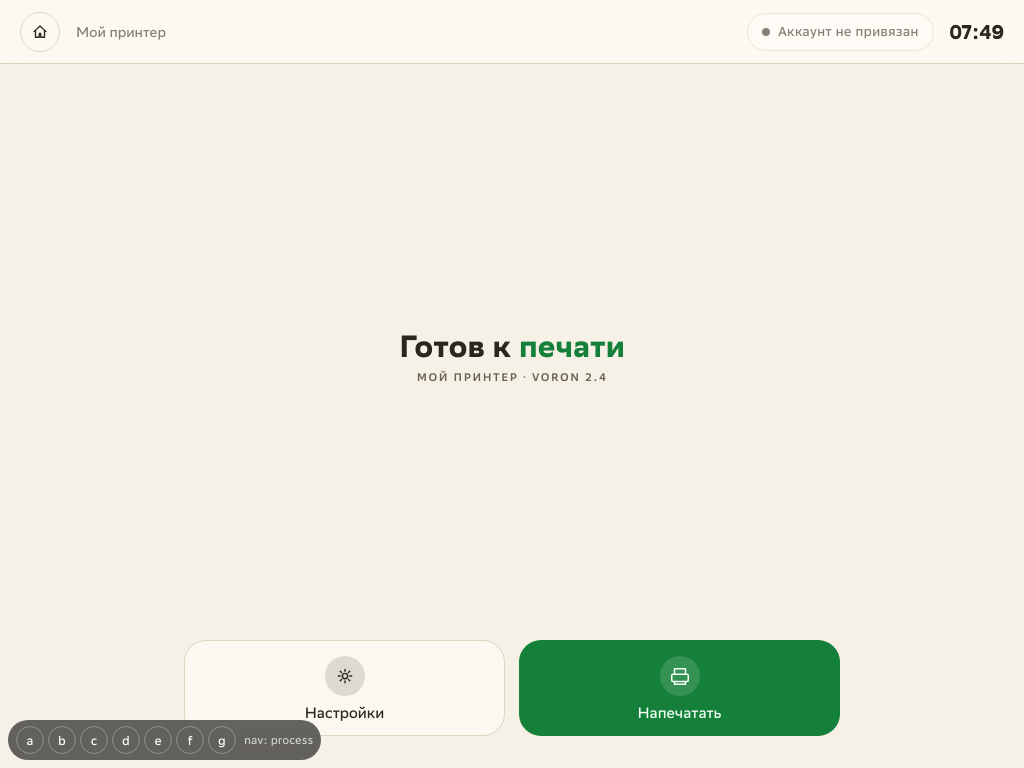
PrinterFaceScreen › ?dev=1 — dev-панель прыгает по сценам b/c/e/f/g напрямую
Step 1. Click the button "c" → (94, 740), box [80,726,108,754]
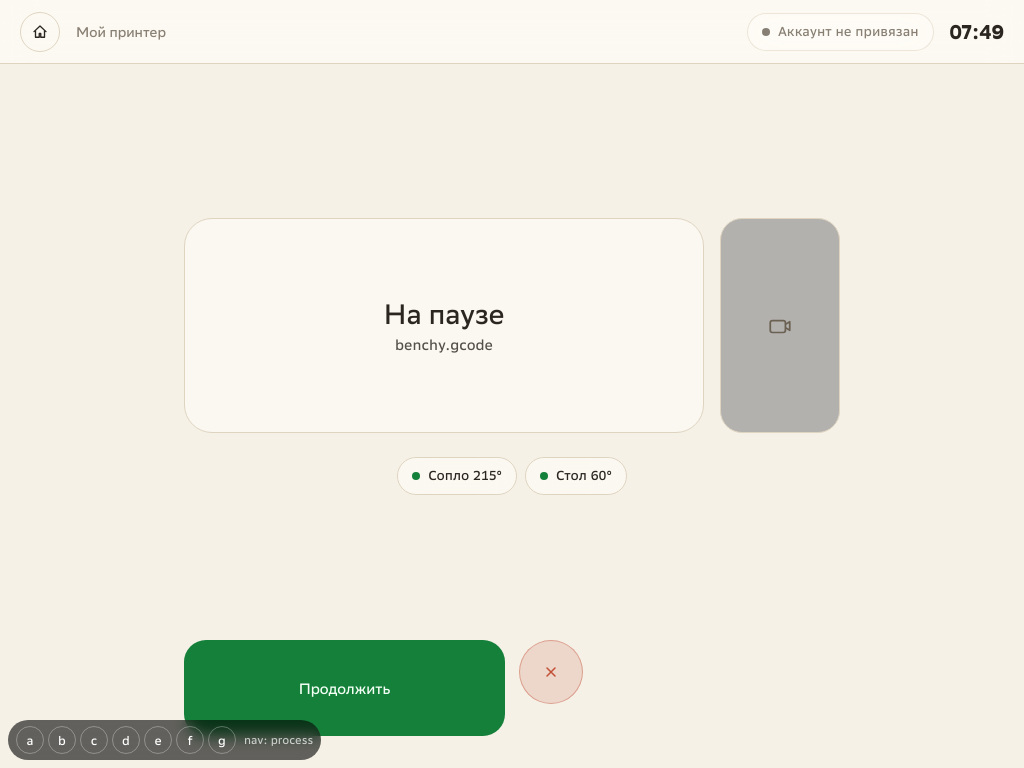
Check: the text "На паузе" is shown, box [384,298,504,330]
Check: the text "Продолжить" is shown, box [299,680,390,696]
